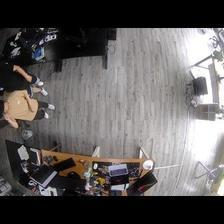normal: (1, 91, 55, 127)
